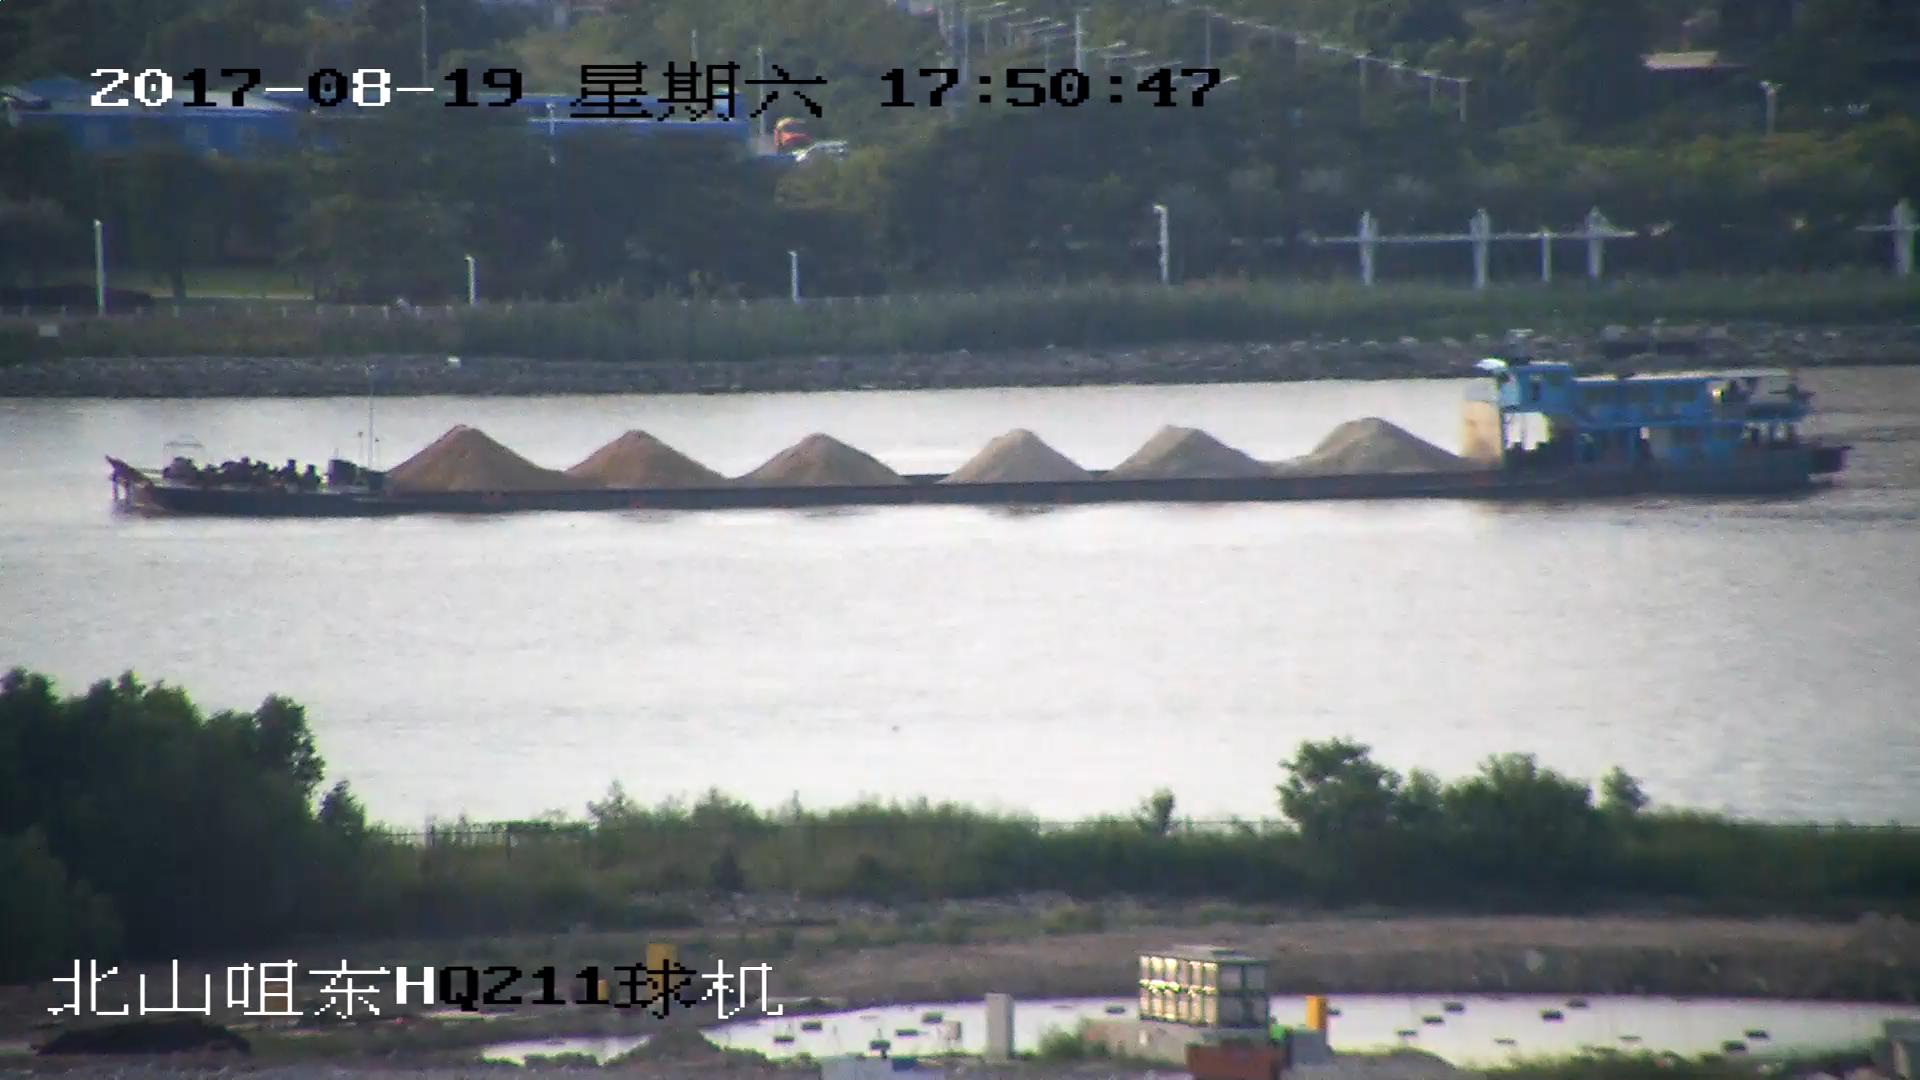ore carrier: (114, 356, 1846, 520)
